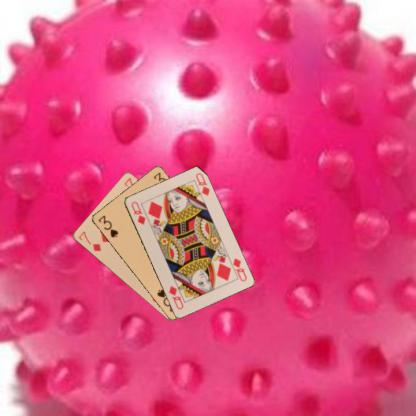3s: (95, 212, 120, 238)
7d: (76, 229, 102, 252)
Qd: (226, 256, 248, 283), (128, 199, 147, 226)
